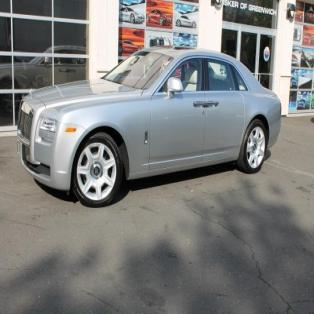Auto: (18, 46, 282, 208)
